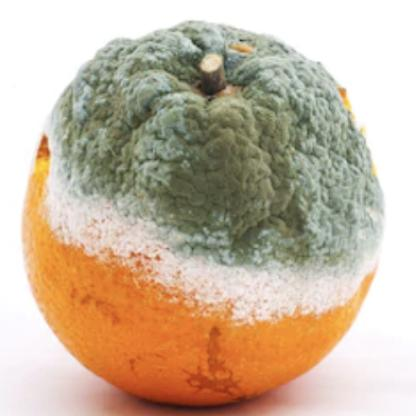rotten: (20, 20, 384, 409)
